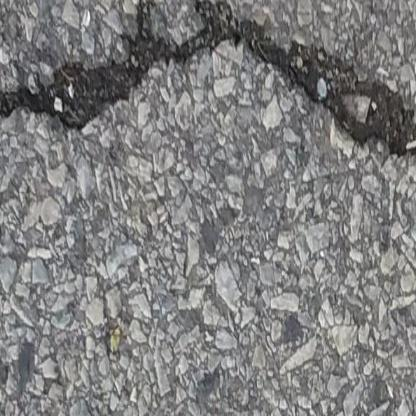Cracks: (0, 0, 416, 166)
